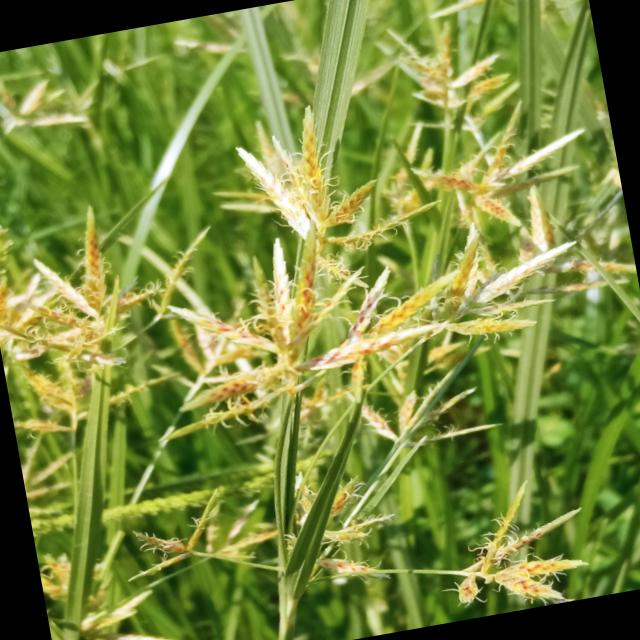cyperus: (148, 90, 533, 438), (116, 440, 407, 624), (0, 197, 192, 413), (412, 468, 596, 624), (392, 91, 590, 225), (366, 9, 514, 142), (0, 43, 95, 154)
